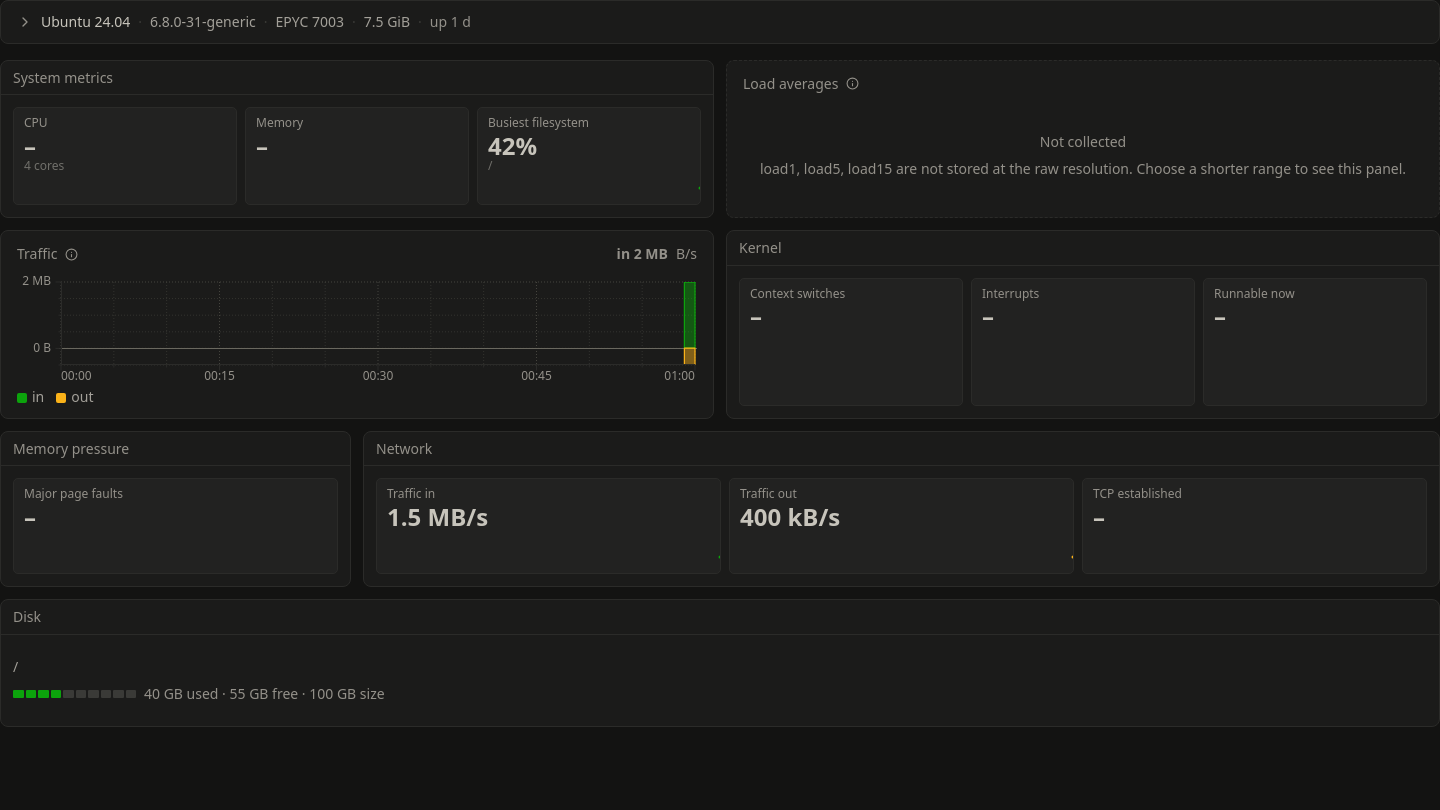
Overview network tiles › enlarges the traffic chart into the dialog
Click the button with aria-label "Enlarge".
click(357, 341)  # box 17,274 -> 697,408
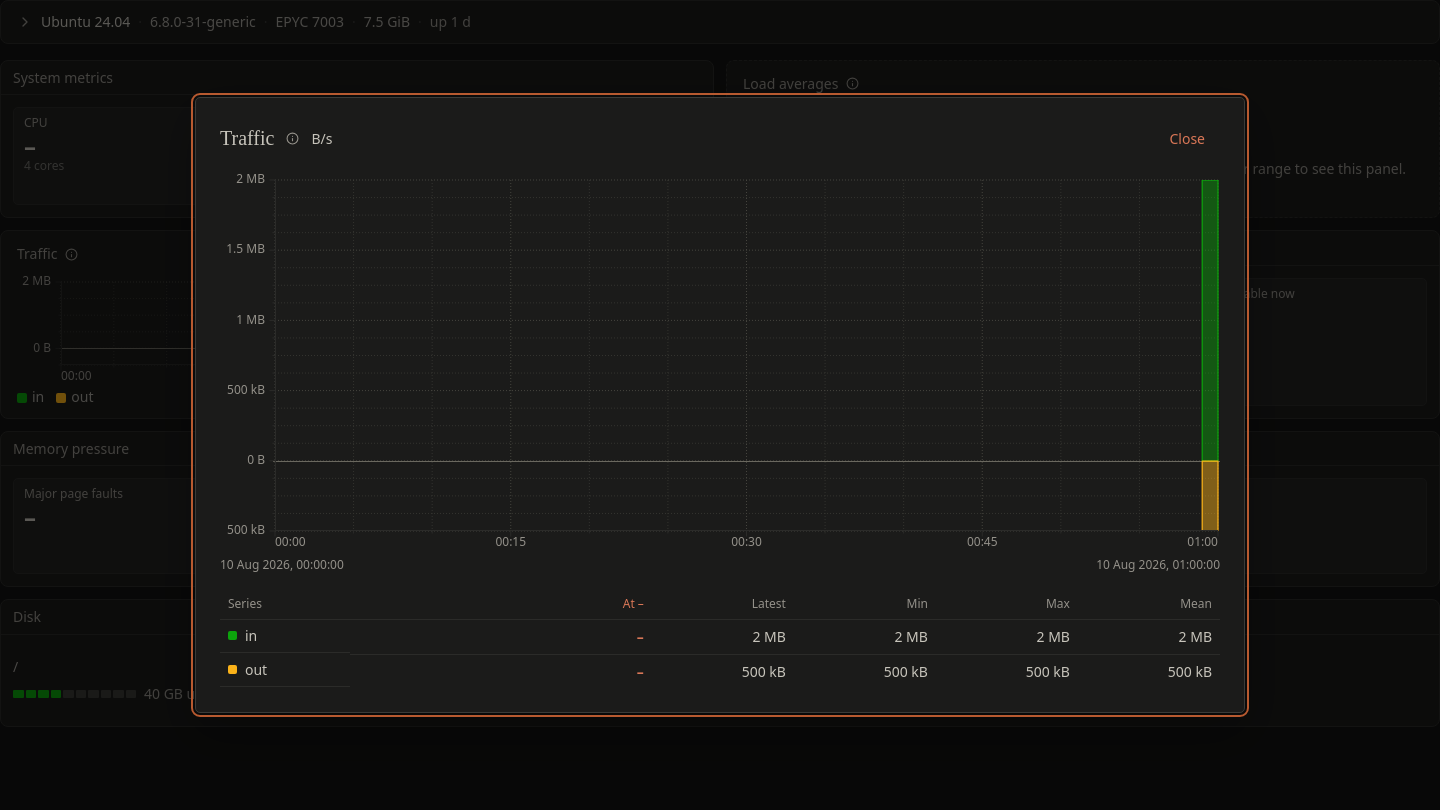
Expected: the dialog is shown, 195,97 -> 1245,713
